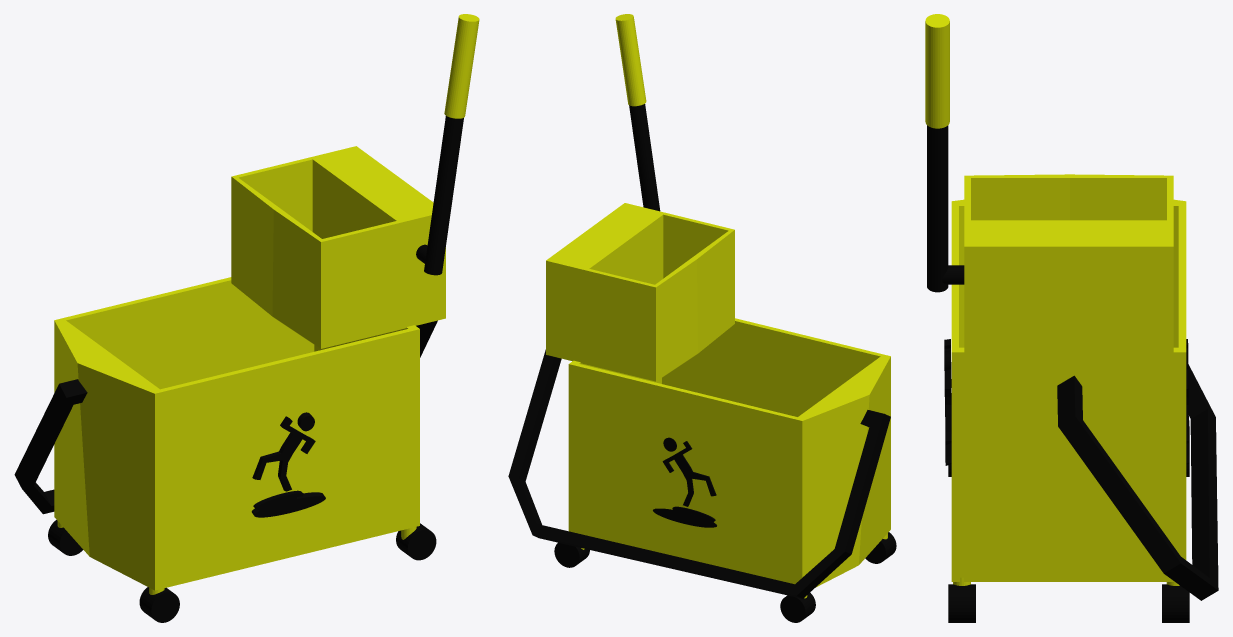
File: mop bucket.fbx
3 renders of one model, left to right at view 1: azimuth 30°, elevation 25°; view 2: azimuth 150°, elevation 25°; view 3: azimuth 270°, elevation 25°, orthographic. The views are drawn at different scales.
Parts seen in each view (by area): view 1: Cube.026, Cube.031, Cube.030; view 2: Cube.026, Cube.031; view 3: Cube.026, Cube.031, Cube.030.
Part boxes in pixels (x1,y1,x2,y2): Cube.026: [54, 14, 479, 594]; Cube.031: [14, 116, 463, 622]; Cube.030: [251, 412, 325, 517]; Cube.026: [546, 14, 890, 598]; Cube.031: [508, 104, 896, 622]; Cube.026: [925, 14, 1186, 585]; Cube.031: [927, 125, 1218, 622]; Cube.030: [944, 339, 951, 465].
Size of the model in its own units: 863 by 1163 by 493.
